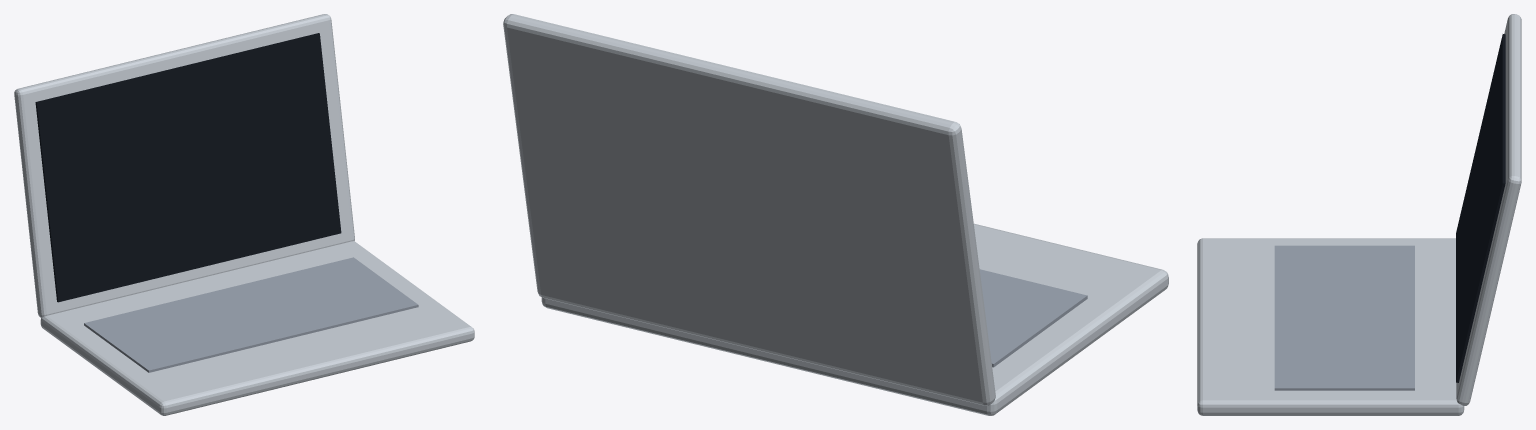
Rendered from laptop.glb.
3 renders of one model, left to right at view 1: azimuth 30°, elevation 25°; view 2: azimuth 150°, elevation 25°; view 3: azimuth 270°, elevation 25°, orthographic. The views are drawn at different scales.
Visible parts, largest first — view 1: tapa, Cube, Cube.001; view 2: tapa, Cube, Cube.001; view 3: Cube, Cube.001, tapa.
Boxes of the visible parts, left/top/right/bottom form: tapa: left=14, top=14, right=354, bottom=317; Cube: left=40, top=241, right=474, bottom=415; Cube.001: left=84, top=257, right=418, bottom=372; tapa: left=503, top=14, right=995, bottom=405; Cube: left=541, top=223, right=1168, bottom=415; Cube.001: left=979, top=269, right=1087, bottom=367; Cube: left=1197, top=238, right=1464, bottom=415; Cube.001: left=1274, top=245, right=1414, bottom=390; tapa: left=1456, top=14, right=1521, bottom=405.
Size of the model in its own units: 1.4 by 0.9412 by 1.15.
